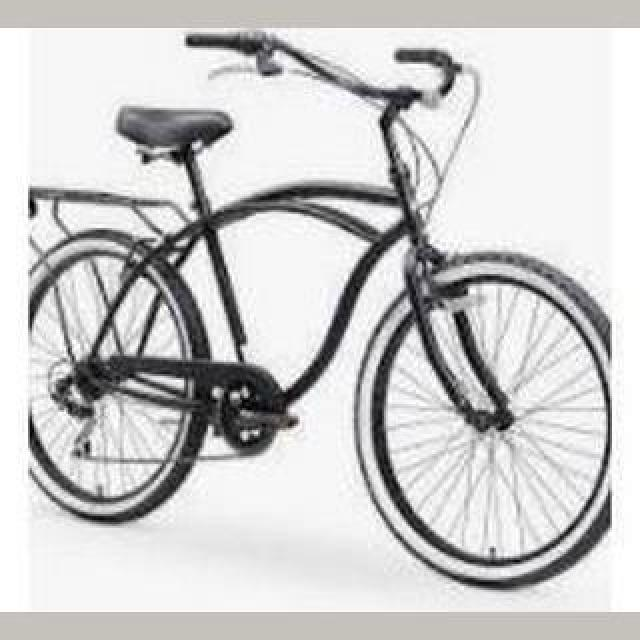Person: (29, 28, 623, 592)
